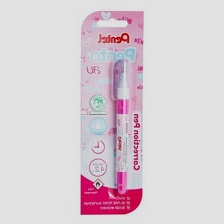book: (77, 6, 149, 218)
correction_fluid: (108, 56, 133, 197)
